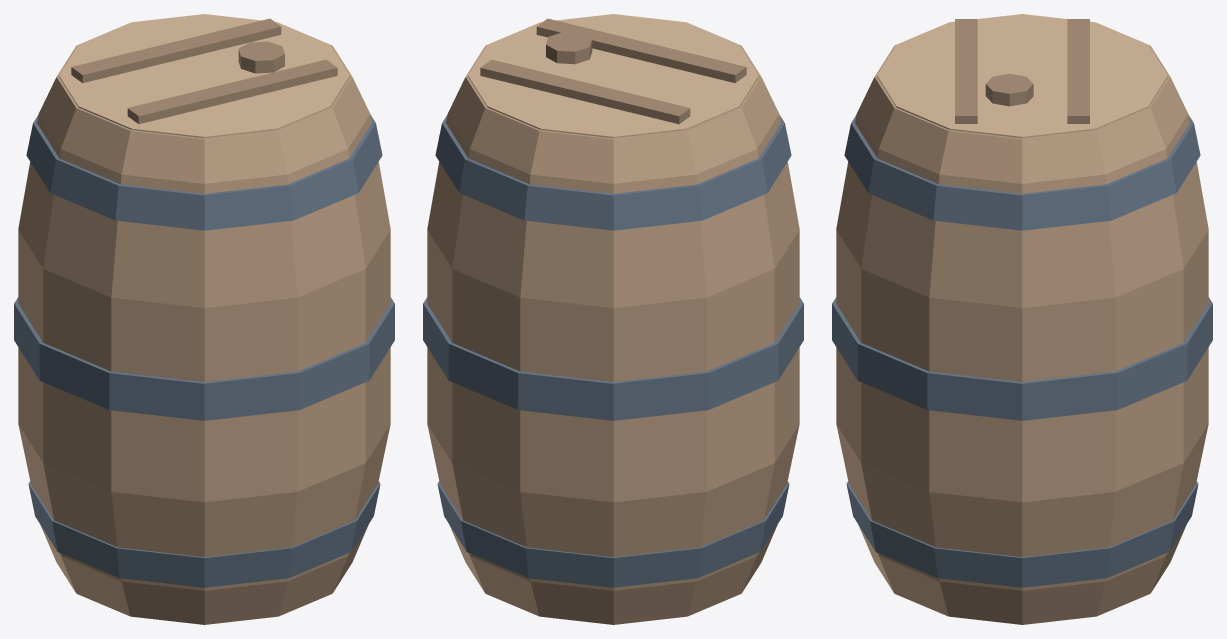
File: barrel.glb
3 views of the same model, side by side, from view 1: azimuth 30°, elevation 25°; view 2: azimuth 150°, elevation 25°; view 3: azimuth 270°, elevation 25° (orthographic).
Parts seen in each view (by area): view 1: barrel_staves, barrel_lid, barrel_hoop_1, barrel_hoop_2, barrel_hoop_0, barrel_lid_strap.001, barrel_lid_strap, barrel_bung; view 2: barrel_staves, barrel_lid, barrel_hoop_1, barrel_hoop_2, barrel_hoop_0, barrel_lid_strap.001, barrel_lid_strap, barrel_bung; view 3: barrel_staves, barrel_lid, barrel_hoop_1, barrel_hoop_2, barrel_hoop_0, barrel_lid_strap, barrel_lid_strap.001, barrel_bung.
Boxes of the visible parts, left/top/right/bottom form: barrel_staves: left=18, top=28, right=390, bottom=624; barrel_lid: left=59, top=14, right=349, bottom=138; barrel_hoop_1: left=14, top=297, right=394, bottom=420; barrel_hoop_2: left=26, top=115, right=382, bottom=230; barrel_hoop_0: left=28, top=481, right=380, bottom=587; barrel_lid_strap.001: left=71, top=18, right=281, bottom=83; barrel_lid_strap: left=127, top=59, right=337, bottom=124; barrel_bung: left=238, top=41, right=284, bottom=73; barrel_staves: left=427, top=28, right=799, bottom=624; barrel_lid: left=468, top=14, right=758, bottom=138; barrel_hoop_1: left=423, top=297, right=803, bottom=420; barrel_hoop_2: left=435, top=115, right=791, bottom=230; barrel_hoop_0: left=437, top=481, right=789, bottom=587; barrel_lid_strap.001: left=480, top=59, right=690, bottom=124; barrel_lid_strap: left=536, top=18, right=746, bottom=83; barrel_bung: left=546, top=32, right=592, bottom=64; barrel_staves: left=836, top=28, right=1208, bottom=624; barrel_lid: left=877, top=14, right=1167, bottom=138; barrel_hoop_1: left=832, top=297, right=1212, bottom=420; barrel_hoop_2: left=844, top=115, right=1200, bottom=230; barrel_hoop_0: left=846, top=481, right=1198, bottom=587; barrel_lid_strap: left=955, top=19, right=977, bottom=123; barrel_lid_strap.001: left=1067, top=19, right=1089, bottom=123; barrel_bung: left=985, top=73, right=1033, bottom=106.
Size of the model in its own units: 0.746 by 1.09 by 0.746.
